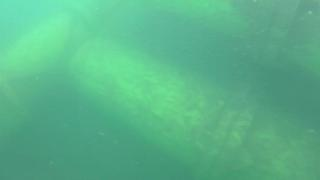pipe: (69, 35, 320, 180), (147, 1, 320, 74), (1, 11, 94, 130)
